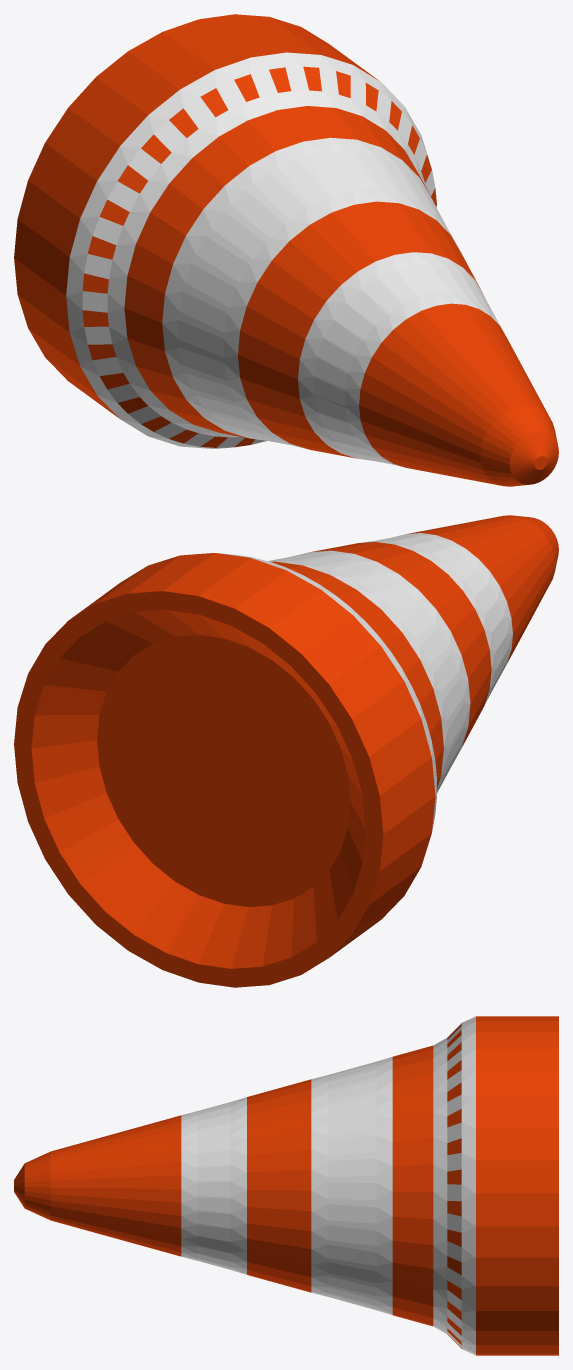
Rendered from template.fbx.
3 views of the same model, one above another, from view 1: azimuth 30°, elevation 25°; view 2: azimuth 150°, elevation 25°; view 3: azimuth 270°, elevation 25° (orthographic). The views are drawn at different scales.
Parts seen in each view (by area): view 1: Cylinder; view 2: Cylinder; view 3: Cylinder.
Boxes of the visible parts, box(x1,y1,x2,y2) form: Cylinder: box(14, 14, 558, 486); Cylinder: box(14, 515, 558, 987); Cylinder: box(14, 1016, 558, 1355).
Bounding box in the file's own units: 251 × 251 × 402.
